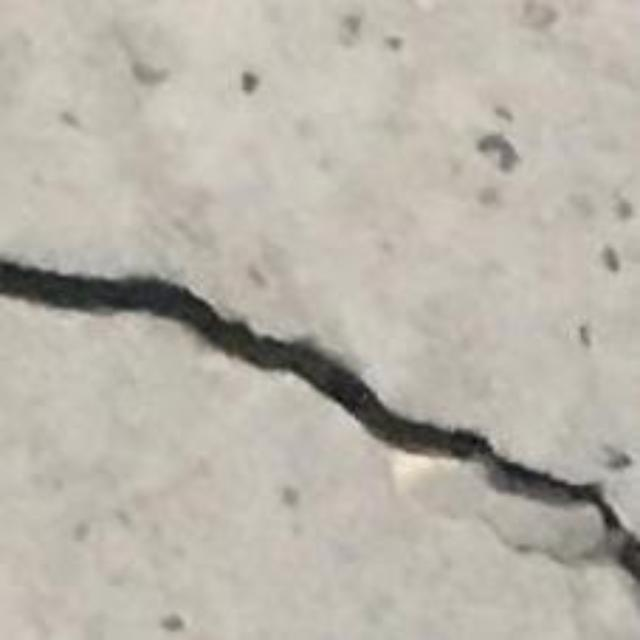crack: (0, 257, 639, 606)
